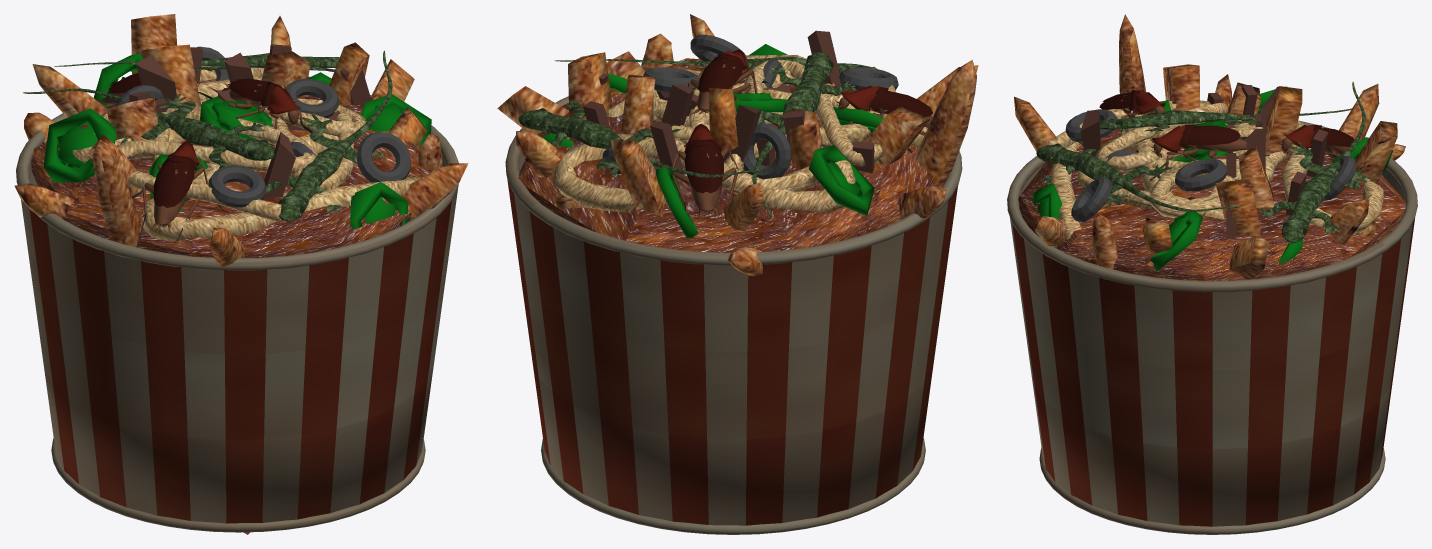
Rendered from Fires Bucket Burned.fbx.
The picture shows the model from 3 angles, left to right: view 1: azimuth 30°, elevation 25°; view 2: azimuth 150°, elevation 25°; view 3: azimuth 270°, elevation 25°; orthographic projection. The views are drawn at different scales.
Parts seen in each view (by area): view 1: overcooked, Fries.009, Chez.001, Mayo.001, Jalapeno.001, Lizard.001, Olives.001, Coroach.001, uncooked chez.001; view 2: overcooked, Fries.009, Chez.001, Mayo.001, Coroach.001, Lizard.001, uncooked chez.001, Jalapeno.001, Olives.001; view 3: overcooked, Fries.009, Chez.001, Mayo.001, Lizard.001, Coroach.001, Olives.001, uncooked chez.001, Jalapeno.001.
Part boxes in pixels (x1=…): overcooked: x1=16, y1=95, x2=458, y2=532; Fries.009: x1=14, y1=14, x2=468, y2=534; Chez.001: x1=31, y1=76, x2=430, y2=257; Mayo.001: x1=66, y1=65, x2=420, y2=241; Jalapeno.001: x1=43, y1=53, x2=431, y2=228; Lizard.001: x1=23, y1=50, x2=392, y2=221; Olives.001: x1=115, y1=46, x2=410, y2=207; Coroach.001: x1=96, y1=73, x2=312, y2=240; uncooked chez.001: x1=129, y1=44, x2=371, y2=200; overcooked: x1=505, y1=96, x2=962, y2=534; Fries.009: x1=497, y1=14, x2=978, y2=276; Chez.001: x1=518, y1=58, x2=934, y2=252; Mayo.001: x1=552, y1=54, x2=927, y2=212; Coroach.001: x1=667, y1=49, x2=932, y2=225; Lizard.001: x1=518, y1=52, x2=871, y2=217; uncooked chez.001: x1=583, y1=30, x2=874, y2=173; Jalapeno.001: x1=541, y1=44, x2=883, y2=237; Olives.001: x1=602, y1=34, x2=898, y2=179; overcooked: x1=1007, y1=120, x2=1417, y2=534; Fries.009: x1=1014, y1=14, x2=1405, y2=279; Chez.001: x1=1018, y1=129, x2=1405, y2=280; Mayo.001: x1=1045, y1=100, x2=1384, y2=240; Lizard.001: x1=1036, y1=82, x2=1369, y2=243; Coroach.001: x1=1099, y1=90, x2=1354, y2=180; Olives.001: x1=1065, y1=100, x2=1356, y2=222; uncooked chez.001: x1=1080, y1=85, x2=1328, y2=239; Jalapeno.001: x1=1032, y1=89, x2=1392, y2=271.
Bounding box in the file's own units: 482 × 458 × 444.
7 materials, 7 textured.
